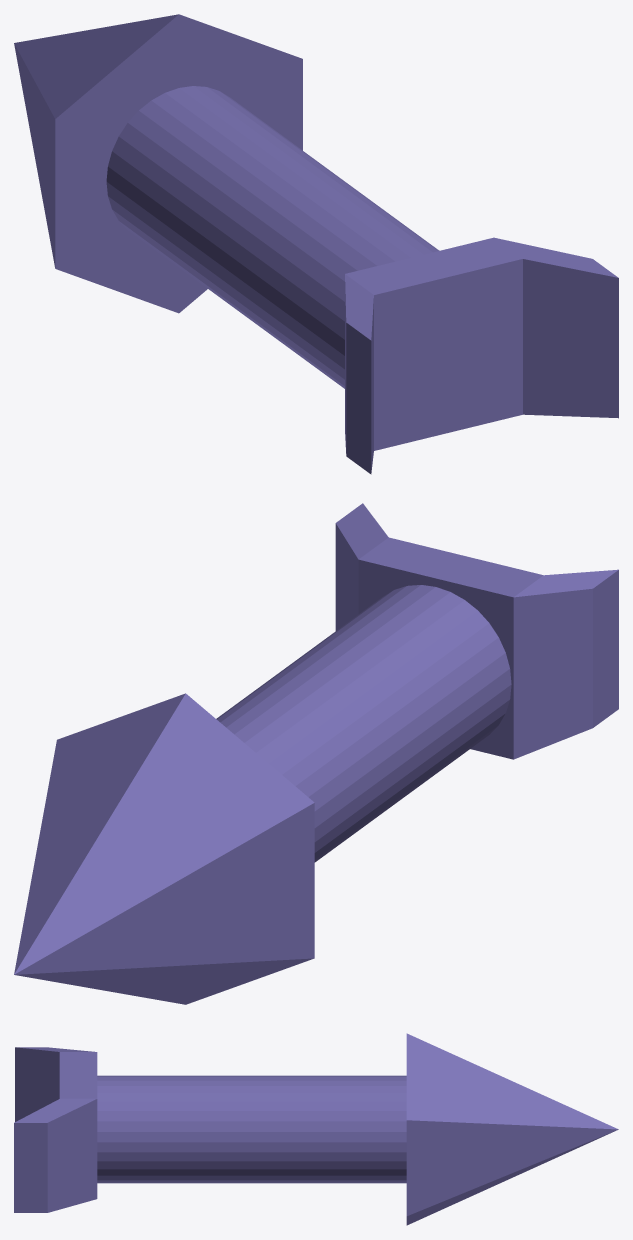
The model's file is arrow.fbx.
3 views of the same model, one above another, from view 1: azimuth 30°, elevation 25°; view 2: azimuth 150°, elevation 25°; view 3: azimuth 270°, elevation 25° (orthographic). The views are drawn at different scales.
Visible parts, largest first — view 1: arrow, back; view 2: arrow, back; view 3: arrow, back.
Part boxes in pixels (bbox=[...]): arrow: bbox=[14, 14, 439, 388]; back: bbox=[345, 237, 618, 474]; arrow: bbox=[14, 585, 511, 1004]; back: bbox=[335, 503, 618, 759]; arrow: bbox=[97, 1033, 618, 1225]; back: bbox=[14, 1047, 97, 1212].
Bounding box in the file's own units: 21.93 × 24.24 × 69.02.
